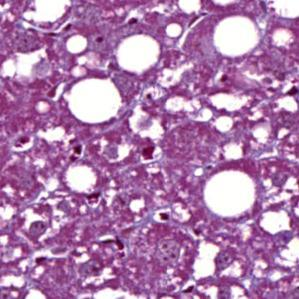steatosis: (65, 73, 122, 126), (202, 169, 261, 217), (210, 14, 260, 57), (115, 32, 165, 74)
